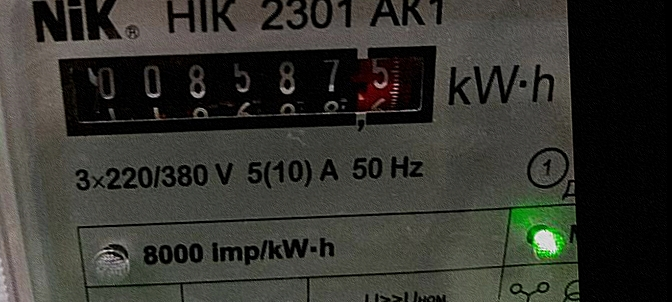0: (139, 60, 164, 101)
1: (93, 61, 118, 103)
5: (367, 51, 393, 92), (230, 57, 254, 96)
7: (319, 54, 343, 96)
8: (183, 60, 209, 102), (275, 56, 297, 98)
screen: (37, 22, 459, 159)
